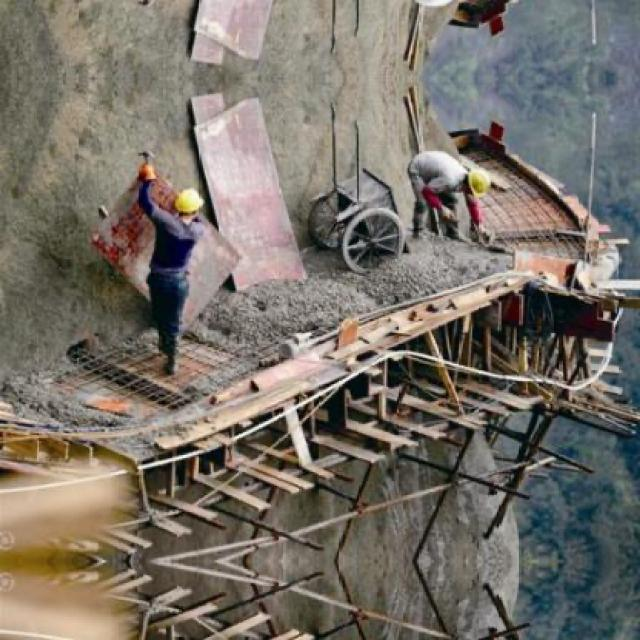helmet: (177, 188, 208, 221), (460, 170, 494, 198)
